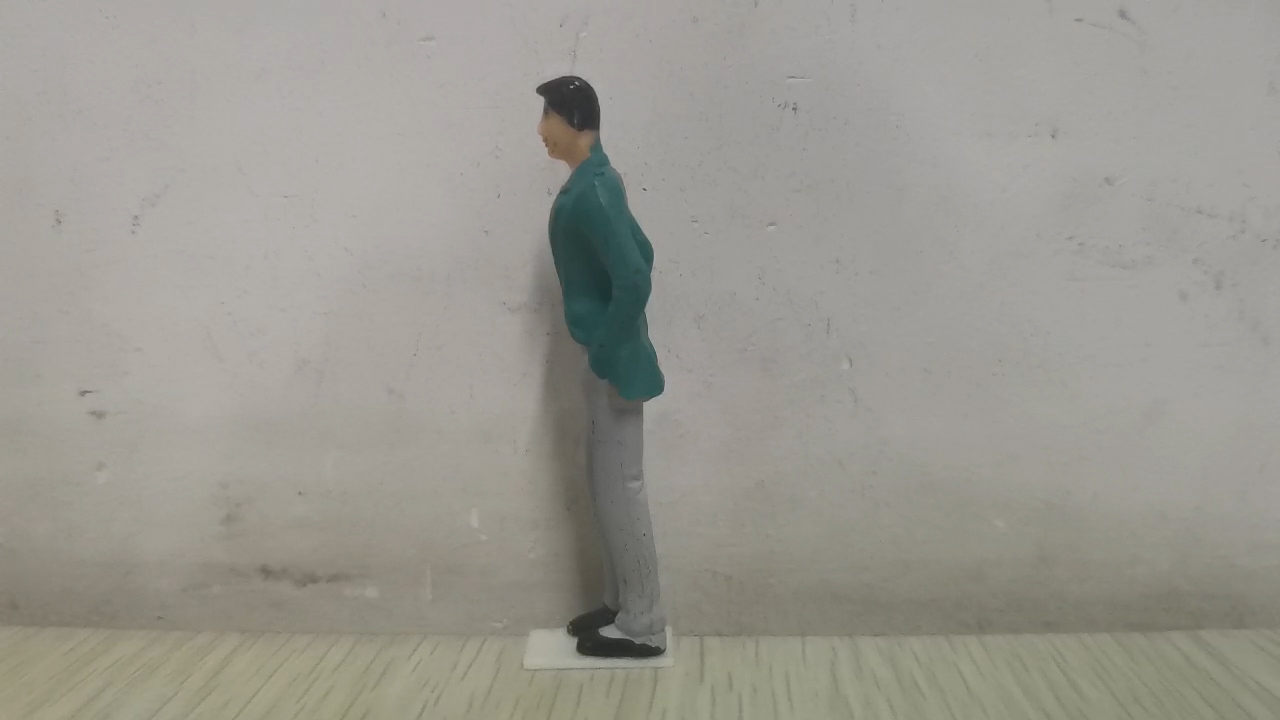person: (530, 74, 669, 661)
